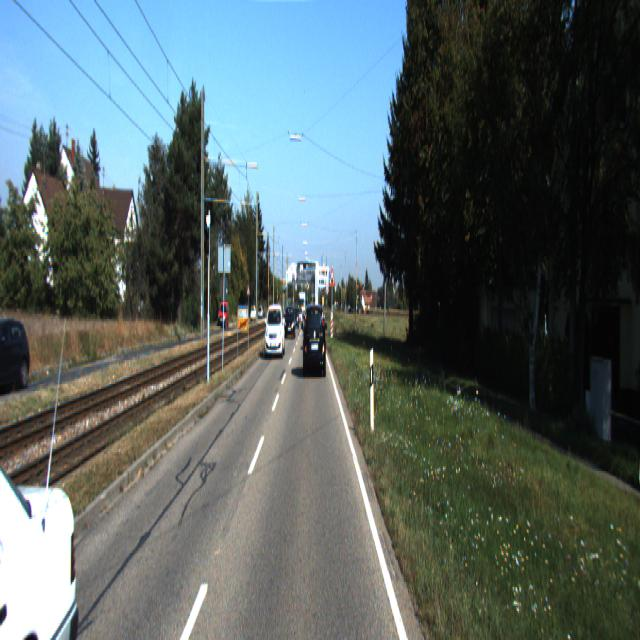Car: (0, 360, 116, 638), (0, 310, 35, 393), (304, 301, 326, 378), (264, 303, 286, 359), (284, 306, 296, 341)
